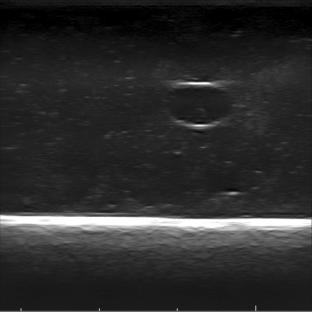vessel: (163, 80, 232, 131)
